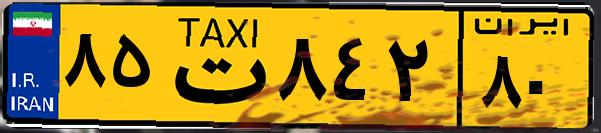0: (525, 38, 570, 115)
2: (385, 28, 445, 110)
4: (330, 28, 385, 110)
5: (110, 28, 158, 98)
8: (270, 28, 330, 110), (57, 26, 110, 100), (475, 38, 525, 113)
ت: (158, 12, 270, 120)
